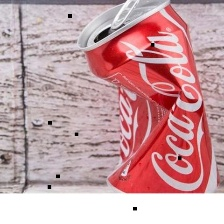can: (72, 0, 221, 195)
